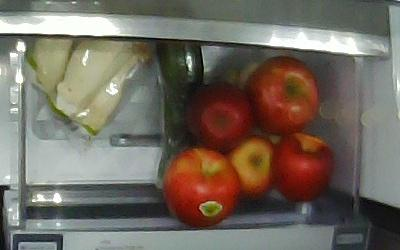apple: (160, 143, 240, 227), (242, 54, 319, 134), (182, 80, 256, 152), (270, 129, 334, 200), (222, 132, 277, 198)
